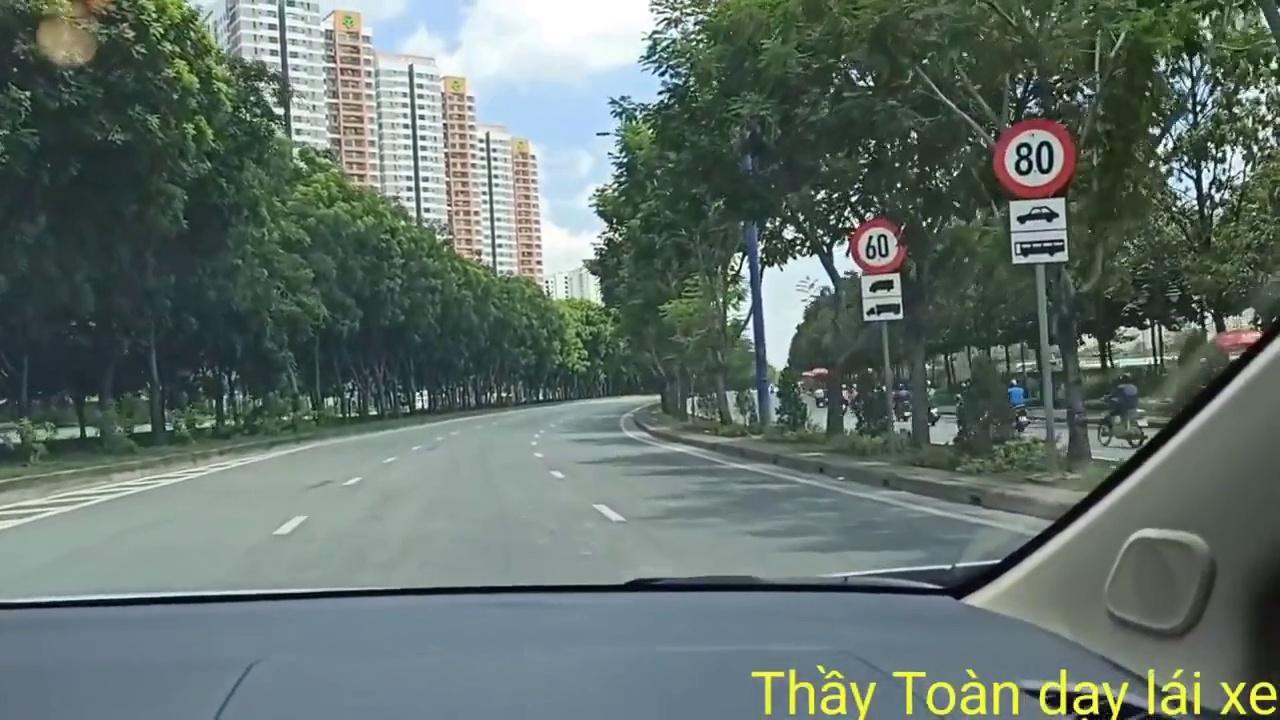Biển phụ: (1009, 198, 1070, 263), (859, 272, 904, 318)
GIơi hạn tốc độ 60Km/h: (850, 215, 910, 272)
Giới hạn tốc độ 80Km/h: (991, 115, 1079, 200)
